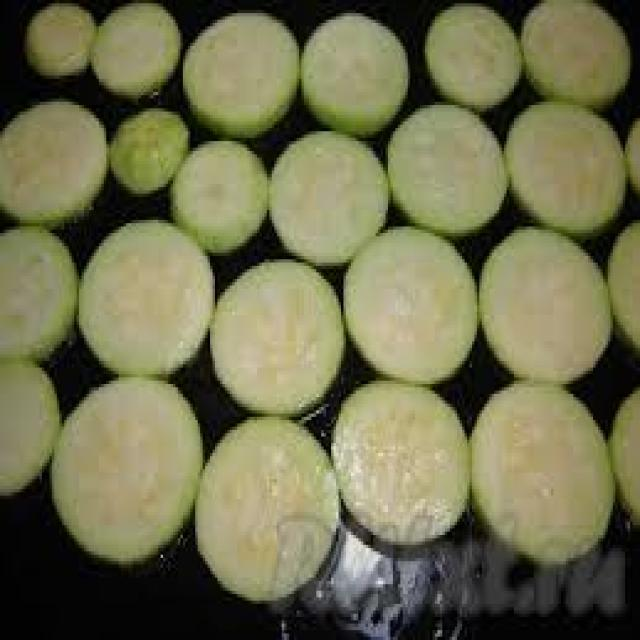vegetable marrow: (189, 379, 346, 638), (472, 344, 630, 557), (471, 214, 631, 414), (55, 357, 194, 587), (328, 355, 482, 543), (342, 210, 487, 402), (200, 225, 344, 417), (78, 200, 218, 386), (388, 77, 520, 259), (173, 0, 330, 147), (292, 2, 420, 166), (503, 65, 624, 238), (275, 110, 396, 270), (0, 59, 121, 217), (0, 201, 89, 389), (514, 0, 635, 128), (172, 122, 262, 268), (416, 0, 532, 109), (94, 0, 198, 117), (0, 357, 76, 503), (17, 2, 110, 93), (106, 83, 168, 196)
